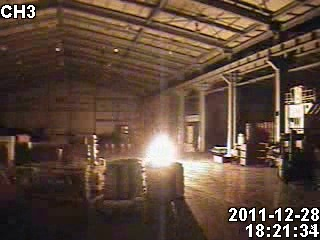fire: (147, 130, 174, 164)
